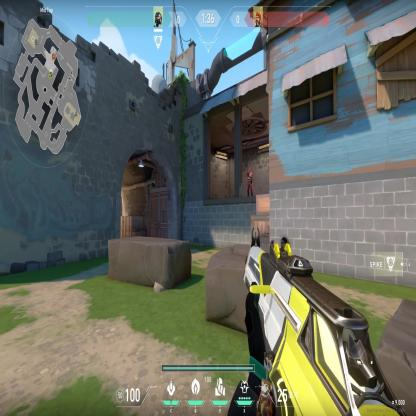enemy: (246, 166, 254, 198)
